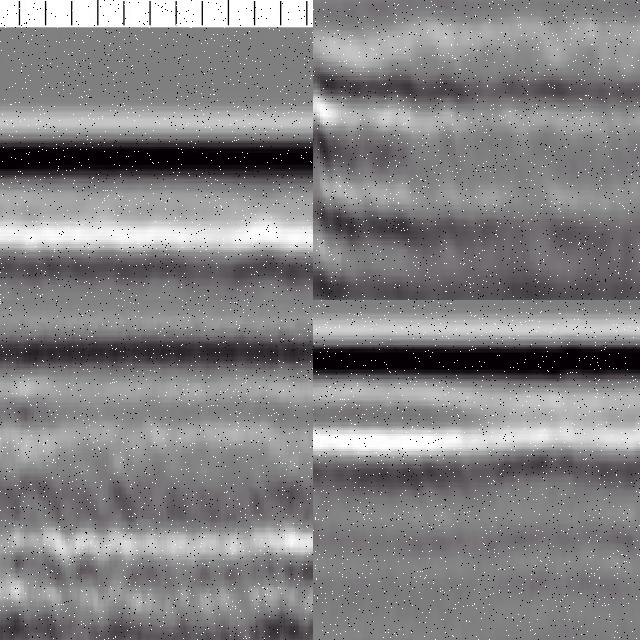loose: (314, 32, 477, 301)
